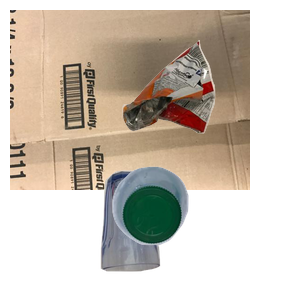cardboard: (10, 10, 250, 190)
glass: (98, 168, 251, 300)
plastic: (110, 164, 300, 300)
trash: (120, 38, 300, 164)
